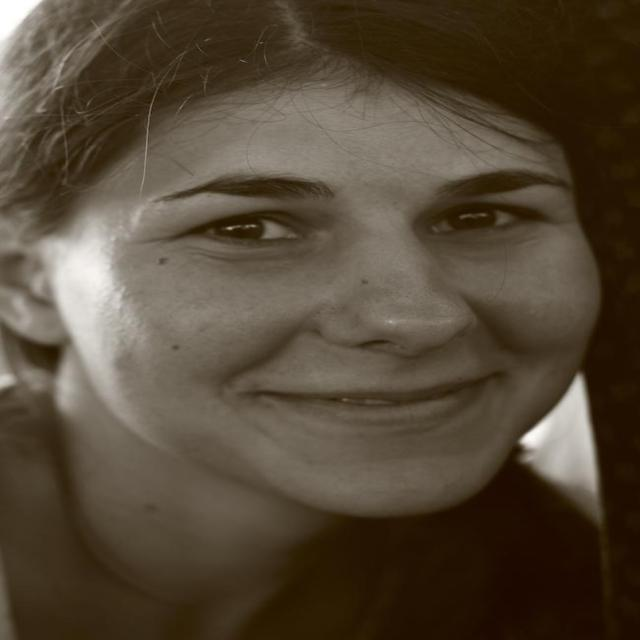no-glass: (160, 202, 546, 246)
